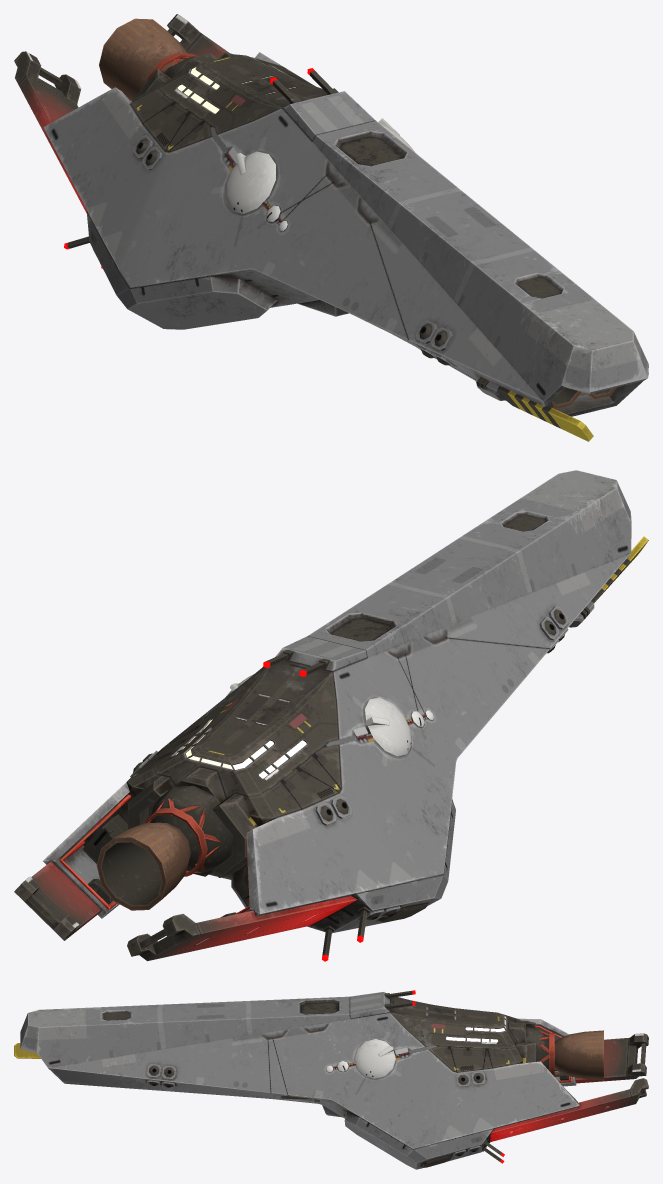
The model's file is rylek-galleon.glb.
The picture shows the model from 3 angles, top to bottom: view 1: azimuth 30°, elevation 25°; view 2: azimuth 150°, elevation 25°; view 3: azimuth 270°, elevation 25°; orthographic projection. The views are drawn at different scales.
Parts seen in each view (by area): view 1: Pirate_Cruiser_Hull_Plane.264, Pirate_Cruiser_Loose_Plane.335; view 2: Pirate_Cruiser_Hull_Plane.264, Pirate_Cruiser_Loose_Plane.335, Pirate_Cruiser_Windows_Plane.340; view 3: Pirate_Cruiser_Hull_Plane.264, Pirate_Cruiser_Loose_Plane.335, Pirate_Cruiser_Windows_Plane.340.
Boxes of the visible parts, box(x1,y1,x2,y2) form: Pirate_Cruiser_Hull_Plane.264: box(14, 14, 648, 416); Pirate_Cruiser_Loose_Plane.335: box(67, 18, 616, 441); Pirate_Cruiser_Hull_Plane.264: box(14, 470, 631, 961); Pirate_Cruiser_Loose_Plane.335: box(83, 536, 648, 955); Pirate_Cruiser_Windows_Plane.340: box(176, 719, 306, 778); Pirate_Cruiser_Hull_Plane.264: box(20, 992, 648, 1169); Pirate_Cruiser_Loose_Plane.335: box(14, 990, 603, 1161); Pirate_Cruiser_Windows_Plane.340: box(446, 1016, 505, 1042).
Size of the model in its own units: 9.67 by 6.32 by 26.76.
Materials: 5 (5 with a texture image).
